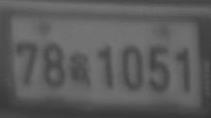0: (121, 46, 144, 90)
1: (173, 47, 198, 92), (95, 44, 118, 88)
5: (148, 46, 170, 92)
7: (16, 42, 38, 83)
8: (42, 43, 65, 87)
육: (68, 53, 92, 87)
